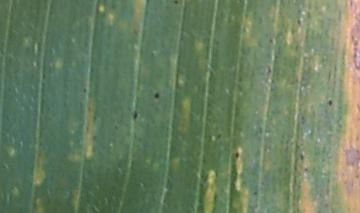tarspot: (129, 110, 140, 121), (152, 90, 161, 101), (300, 150, 306, 163), (301, 166, 311, 173), (234, 149, 240, 160), (328, 98, 334, 107), (253, 190, 261, 196), (174, 1, 180, 7), (84, 87, 87, 96)
